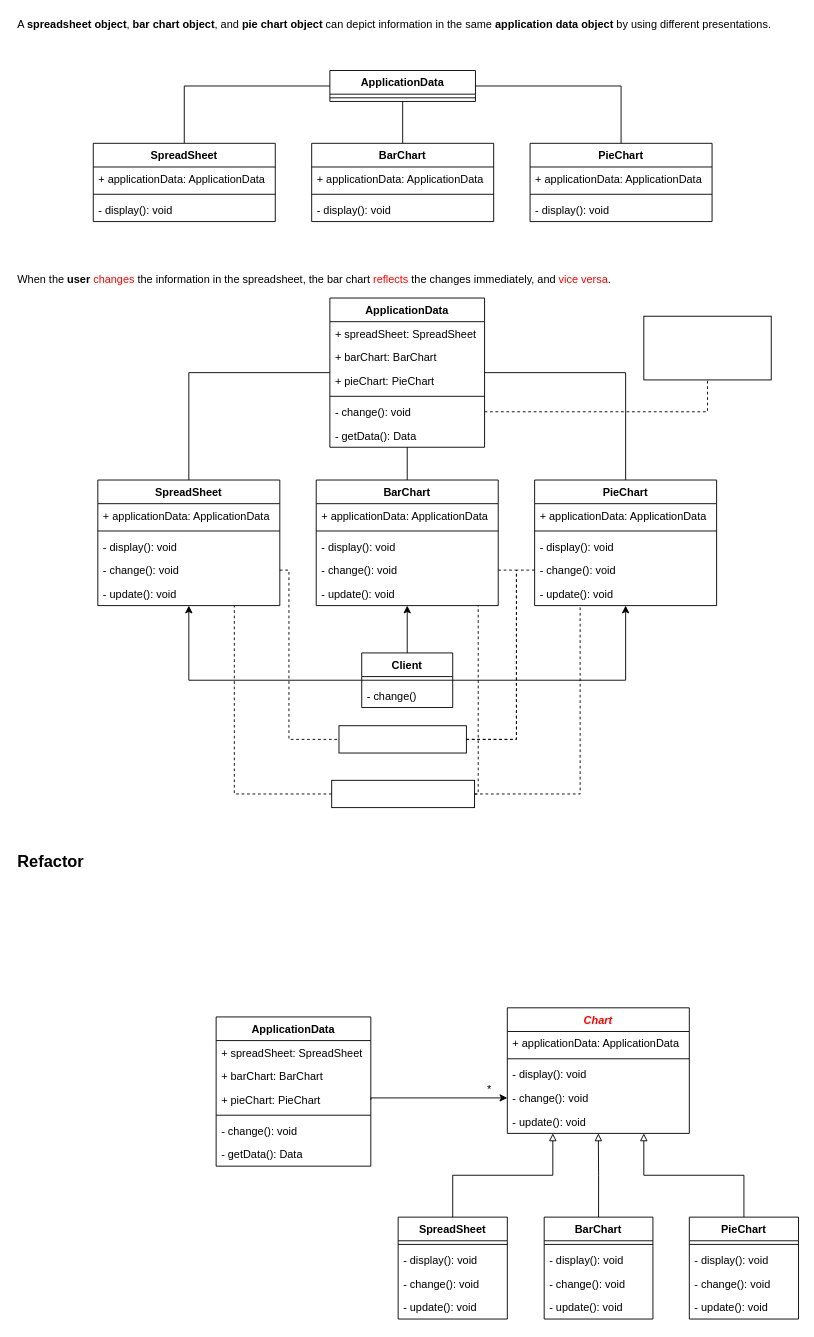
Some shapes in this 814 by 1337 pixel diagram are drawn without their labels. Each missing label, with the centre of its shape:
applicationData.change();: the point at 402,739
applicationData.getData(); this.display();: the point at 403,793
spreadSheet.update(); barChart.update(); pieChart.update();: the point at 707,347
